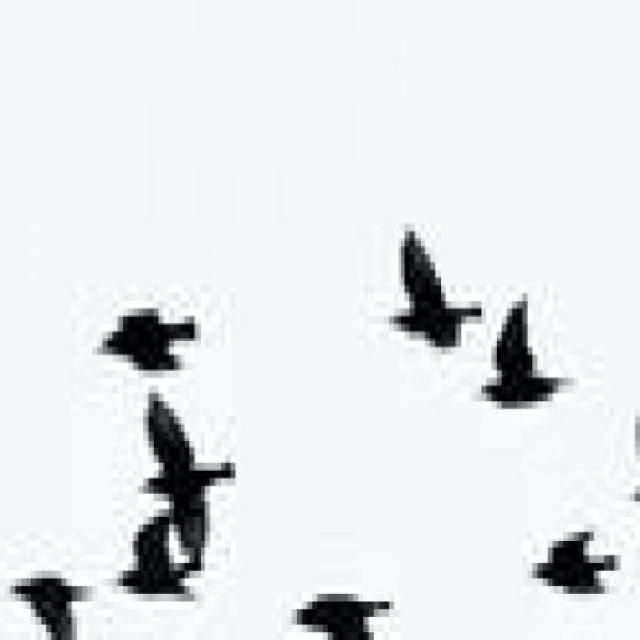bird: (130, 385, 248, 568), (372, 216, 481, 387), (72, 275, 220, 396), (462, 294, 585, 405), (114, 510, 214, 612), (529, 518, 617, 619), (292, 556, 405, 632), (10, 570, 116, 639), (624, 385, 636, 587)
